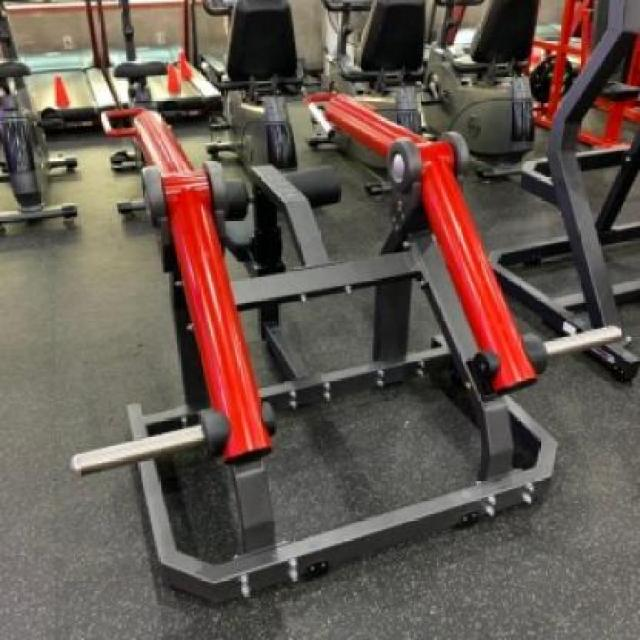seated dip machine: (74, 95, 534, 640)
